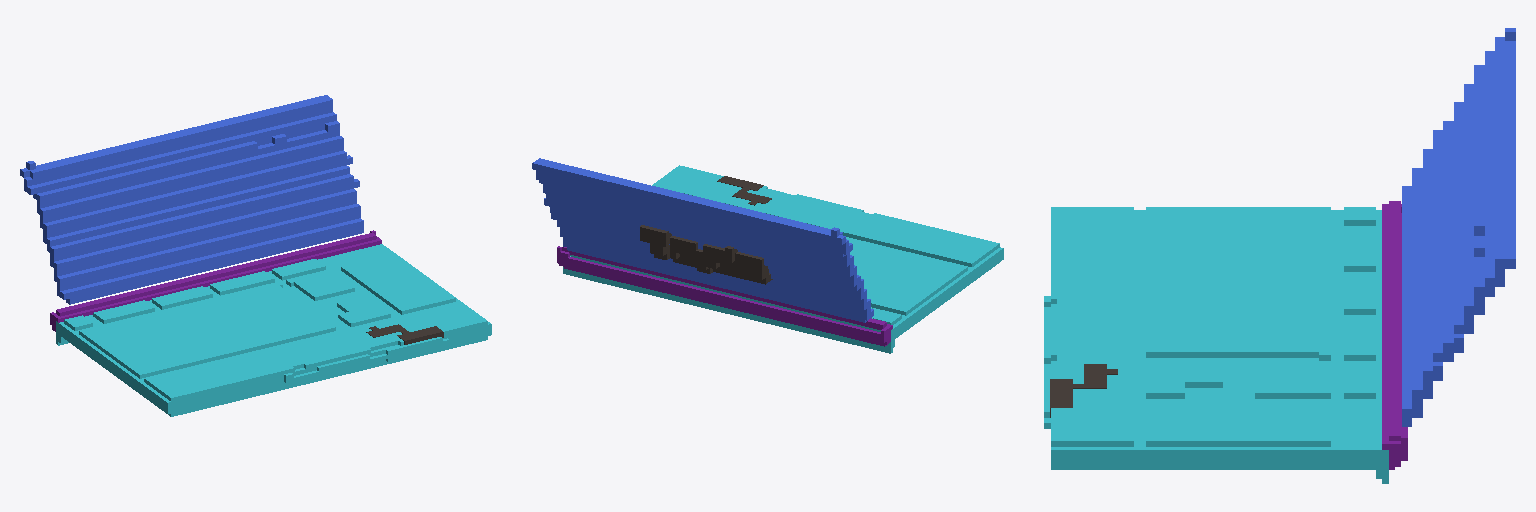
URDF robot description (physxnet_10129_strict):
<?xml version='1.0' encoding='utf-8'?>
<robot name="physxnet_10129_strict">
  <link name="l_world">
    <inertial>
      <origin xyz="0 0 0" rpy="0 0 0" />
      <mass value="0.0100000000" />
      <inertia ixx="0.0000001667" ixy="0.0" ixz="0.0" iyy="0.0000001667" iyz="0.0" izz="0.0000001667" />
    </inertial>
  </link><link name="l_0">
    <inertial>
      <origin xyz="0.0000040094 0.1091868452 0.0129651724" rpy="0 0 0" />
      <mass value="0.0227055673" />
      <inertia ixx="0.0000317605" ixy="0.0" ixz="0.0" iyy="0.0002362041" iyz="0.0" izz="0.0002202958" />
    </inertial><visual>
      <origin xyz="0 0 0" rpy="0 0 0" />
      <geometry>
        <mesh filename="../rigid_visuals/part_000_visual.obj" scale="1 1 1" />
      </geometry><material name="mat_l_0">
        <color rgba="0.32548 0.48041 0.93131 1.00000" />
      </material>
    </visual><collision>
      <origin xyz="0 0 0" rpy="0 0 0" />
      <geometry>
        <mesh filename="part_000_collision.obj" scale="1 1 1" />
      </geometry>
    </collision>
  </link><joint name="joint_fixed_l_world_l_0" type="fixed">
    <parent link="l_world" />
    <child link="l_0" />
    <origin xyz="0 0 0" rpy="0 0 0" />
  </joint><link name="l_1">
    <inertial>
      <origin xyz="-0.0000111778 0.1047008962 0.0058662876" rpy="0 0 0" />
      <mass value="0.0824457658" />
      <inertia ixx="0.0002005434" ixy="0.0" ixz="0.0" iyy="0.0009859963" iyz="0.0" izz="0.0008972773" />
    </inertial><visual>
      <origin xyz="0 0 0" rpy="0 0 0" />
      <geometry>
        <mesh filename="../rigid_visuals/part_001_visual.obj" scale="1 1 1" />
      </geometry><material name="mat_l_1">
        <color rgba="0.15447 0.35718 0.26453 1.00000" />
      </material>
    </visual><collision>
      <origin xyz="0 0 0" rpy="0 0 0" />
      <geometry>
        <mesh filename="part_001_collision.obj" scale="1 1 1" />
      </geometry>
    </collision>
  </link><joint name="joint_fixed_l_0_l_1" type="fixed">
    <parent link="l_0" />
    <child link="l_1" />
    <origin xyz="0 0 0" rpy="0 0 0" />
  </joint><link name="l_2">
    <inertial>
      <origin xyz="-0.0000000000 -0.0390975684 -0.0677396270" rpy="0 0 0" />
      <mass value="0.0297724552" />
      <inertia ixx="0.0001227651" ixy="0.0" ixz="0.0" iyy="0.0003050574" iyz="0.0" izz="0.0004255620" />
    </inertial><visual>
      <origin xyz="0 0 0" rpy="0 0 0" />
      <geometry>
        <mesh filename="../rigid_visuals/part_002_visual.obj" scale="1 1 1" />
      </geometry><material name="mat_l_2">
        <color rgba="0.29417 0.82410 0.87988 1.00000" />
      </material>
    </visual><collision>
      <origin xyz="0 0 0" rpy="0 0 0" />
      <geometry>
        <mesh filename="part_002_collision.obj" scale="1 1 1" />
      </geometry>
    </collision>
  </link><joint name="joint_fixed_l_1_l_2" type="fixed">
    <parent link="l_1" />
    <child link="l_2" />
    <origin xyz="0 0 0" rpy="0 0 0" />
  </joint><link name="l_3">
    <inertial>
      <origin xyz="0.0000000000 0.0667755404 -0.0616469886" rpy="0 0 0" />
      <mass value="0.0157424381" />
      <inertia ixx="0.0000010363" ixy="0.0" ixz="0.0" iyy="0.0001611024" iyz="0.0" izz="0.0001613402" />
    </inertial><visual>
      <origin xyz="0 0 0" rpy="0 0 0" />
      <geometry>
        <mesh filename="../rigid_visuals/part_003_visual.obj" scale="1 1 1" />
      </geometry><material name="mat_l_3">
        <color rgba="0.55944 0.19916 0.68114 1.00000" />
      </material>
    </visual><collision>
      <origin xyz="0 0 0" rpy="0 0 0" />
      <geometry>
        <mesh filename="part_003_collision.obj" scale="1 1 1" />
      </geometry>
    </collision>
  </link><joint name="joint_fixed_l_2_l_3" type="fixed">
    <parent link="l_2" />
    <child link="l_3" />
    <origin xyz="0 0 0" rpy="0 0 0" />
  </joint><link name="l_4">
    <inertial>
      <origin xyz="0.0284667370 -0.0100245565 -0.0222940314" rpy="0 0 0" />
      <mass value="0.0614292099" />
      <inertia ixx="0.0003760547" ixy="0.0" ixz="0.0" iyy="0.0001971101" iyz="0.0" izz="0.0005209474" />
    </inertial><visual>
      <origin xyz="0 0 0" rpy="0 0 0" />
      <geometry>
        <mesh filename="../rigid_visuals/part_004_visual.obj" scale="1 1 1" />
      </geometry><material name="mat_l_4">
        <color rgba="0.31347 0.28085 0.26098 1.00000" />
      </material>
    </visual><collision>
      <origin xyz="0 0 0" rpy="0 0 0" />
      <geometry>
        <mesh filename="part_004_collision.obj" scale="1 1 1" />
      </geometry>
    </collision>
  </link><joint name="joint_fixed_l_3_l_4" type="fixed">
    <parent link="l_3" />
    <child link="l_4" />
    <origin xyz="0 0 0" rpy="0 0 0" />
  </joint><link name="l_5">
    <inertial>
      <origin xyz="0.0021375142 -0.1212116231 -0.0652183007" rpy="0 0 0" />
      <mass value="0.0005448974" />
      <inertia ixx="0.0000000248" ixy="0.0" ixz="0.0" iyy="0.0000048733" iyz="0.0" izz="0.0000048967" />
    </inertial><visual>
      <origin xyz="0 0 0" rpy="0 0 0" />
      <geometry>
        <mesh filename="../rigid_visuals/part_005_visual.obj" scale="1 1 1" />
      </geometry><material name="mat_l_5">
        <color rgba="0.31346 0.15755 0.21545 1.00000" />
      </material>
    </visual><collision>
      <origin xyz="0 0 0" rpy="0 0 0" />
      <geometry>
        <mesh filename="part_005_collision.obj" scale="1 1 1" />
      </geometry>
    </collision>
  </link><joint name="joint_fixed_l_4_l_5" type="fixed">
    <parent link="l_4" />
    <child link="l_5" />
    <origin xyz="0 0 0" rpy="0 0 0" />
  </joint>
</robot>

--- Render facts (derived) ---
Views: 3 orthographic renders of the robot side by side, from view 1: azimuth 30°, elevation 25°; view 2: azimuth 150°, elevation 25°; view 3: azimuth 270°, elevation 25°.
Model physxnet_10129_strict with 7 links and 6 joints (6 fixed), rooted at l_world, posed every joint at zero.
Links seen in each view (by area): view 1: l_0, l_2, l_3, l_4; view 2: l_0, l_2, l_3, l_4; view 3: l_2, l_0, l_3, l_4.
Boxes of the visible links, box(x1,y1,x2,y2) form: l_0: box(20, 95, 363, 304); l_2: box(56, 244, 491, 416); l_3: box(50, 230, 381, 331); l_4: box(366, 324, 443, 344); l_0: box(532, 158, 873, 322); l_2: box(563, 165, 1003, 353); l_3: box(557, 246, 892, 346); l_4: box(640, 176, 772, 284); l_2: box(1044, 207, 1388, 483); l_0: box(1402, 28, 1515, 426); l_3: box(1382, 201, 1407, 469); l_4: box(1050, 364, 1117, 417).
Bounding box of the posed robot: 0.356 × 0.2956 × 0.1564 m (x, y, z).
Meshes: 6 distinct files referenced, 5 mesh visuals loaded (5 OBJ); not drawn: 1 (reference not matched to a file when rendering).
